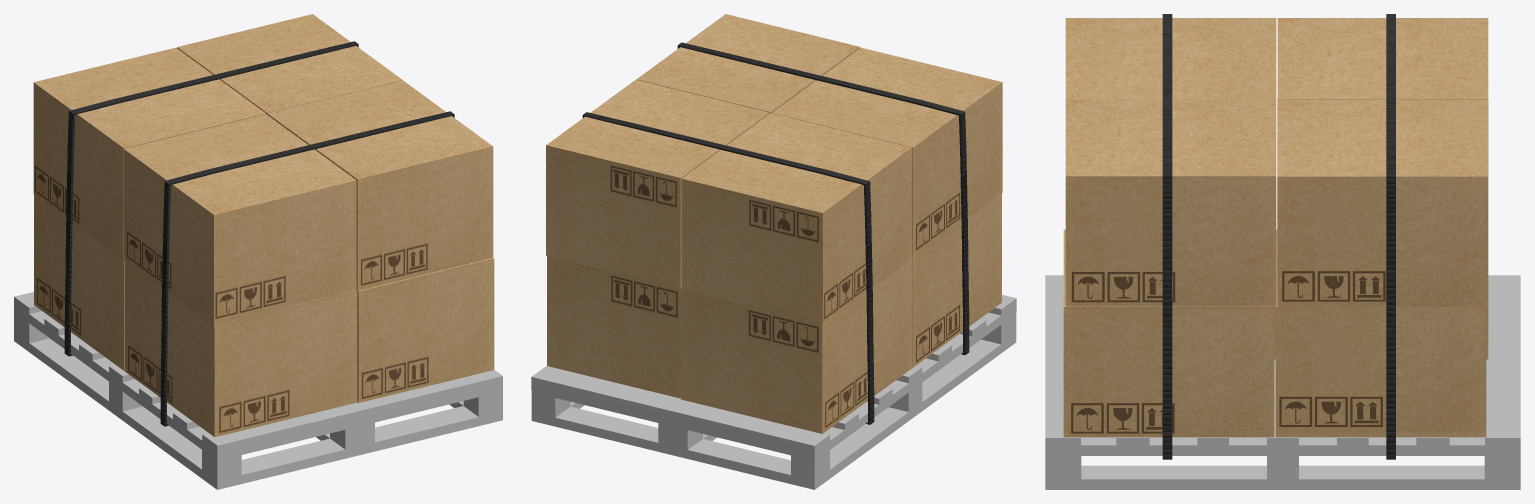
Rendered from Boxes.fbx.
3 renders of one model, left to right at view 1: azimuth 30°, elevation 25°; view 2: azimuth 150°, elevation 25°; view 3: azimuth 270°, elevation 25°, orthographic. The views are drawn at different scales.
Parts seen in each view (by area): view 1: boxes, pallets, straps; view 2: boxes, pallets, straps; view 3: boxes, pallets, straps.
Boxes of the visible parts, <box> form: boxes: <box>33,14,494,437</box>; pallets: <box>14,292,502,489</box>; straps: <box>64,41,454,426</box>; boxes: <box>546,14,1002,433</box>; pallets: <box>531,294,1016,489</box>; straps: <box>582,42,969,424</box>; boxes: <box>1063,18,1488,437</box>; pallets: <box>1045,275,1520,489</box>; straps: <box>1162,14,1395,459</box>.
Size of the model in its own units: 61.43 by 54.51 by 74.51.
